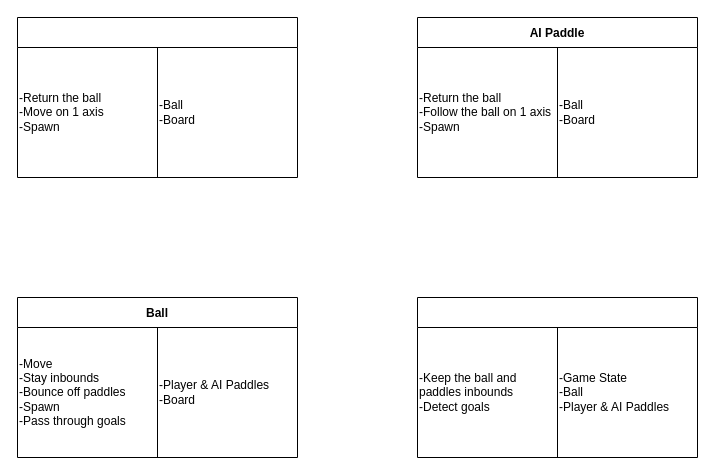
The diagram is 715 pixels wide and 475 high, and some of its shapes have lost their labels. The shapes that lost their labels are listed below. From the top down, each one's box as (x1, y1, x2, y2) in pixels, then its label:
(16, 16, 298, 178): Player Paddle
(416, 296, 698, 458): Board
